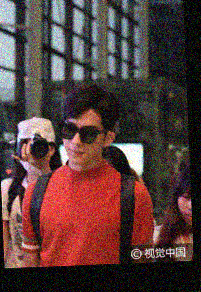without_mask: (61, 117, 104, 165), (177, 189, 191, 225)
